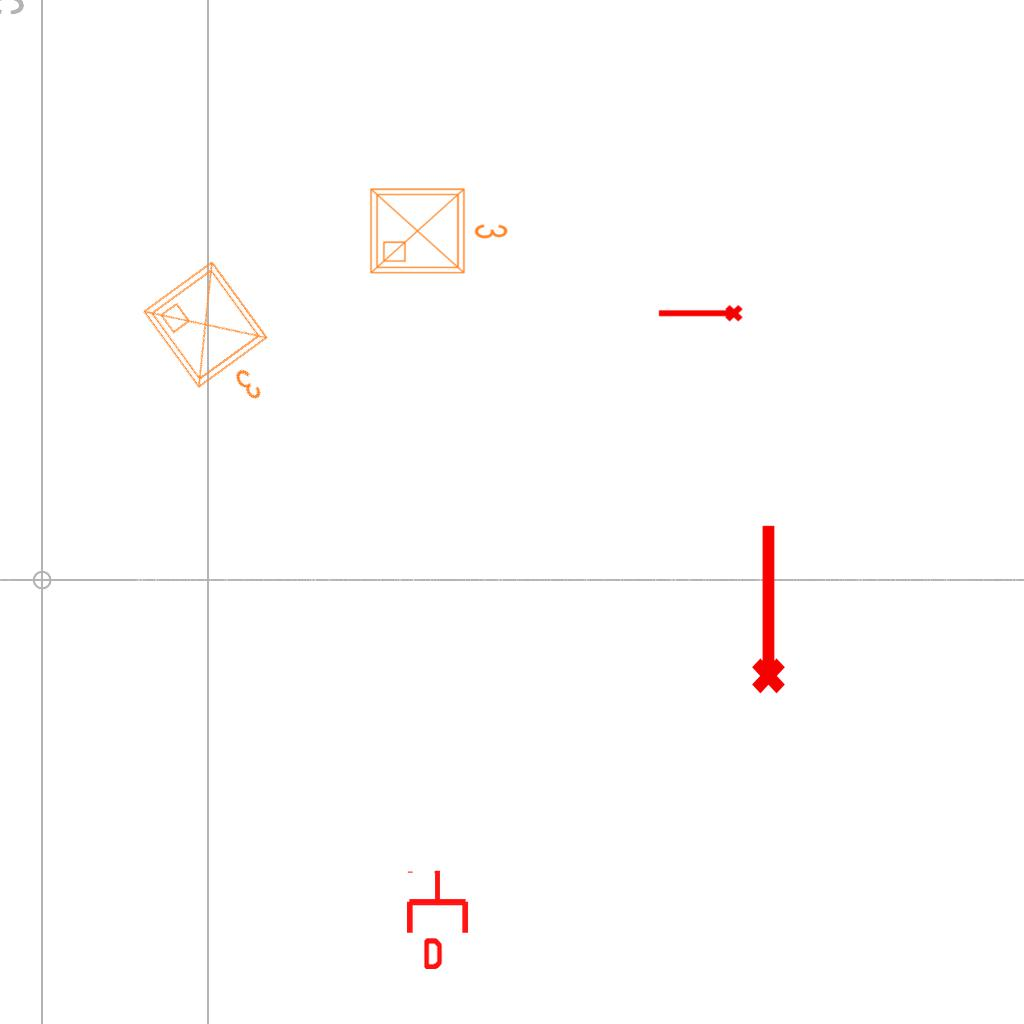ASR_Ansaugoeffnung: (743, 520, 789, 696), (656, 303, 744, 326)
Datenanschluss_einfach: (403, 869, 472, 969)
Einbaudownlights_LED_Konferenzraeume: (132, 248, 306, 432), (363, 177, 513, 281)
